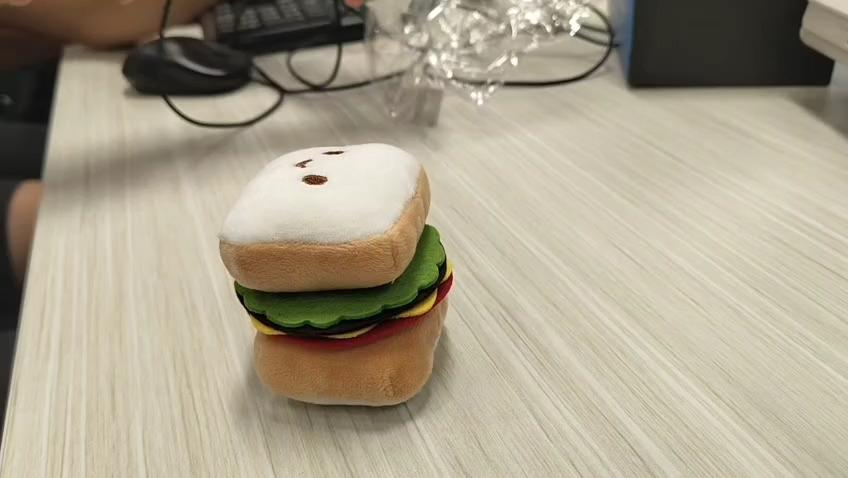objects: (217, 142, 453, 407)
